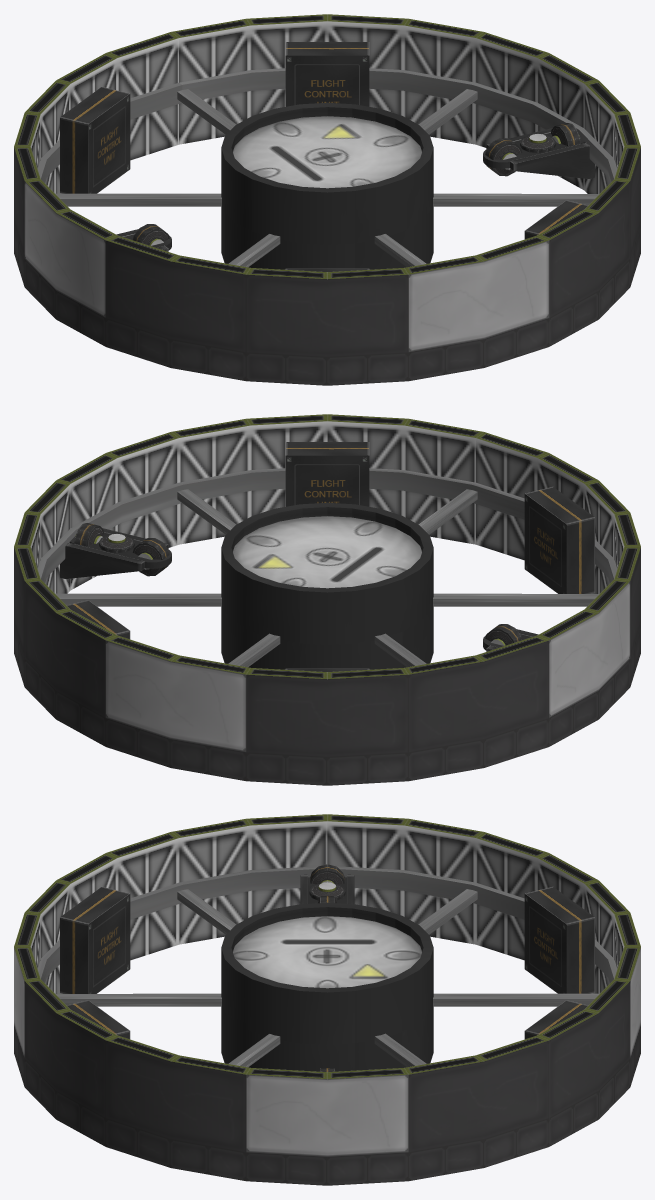
The model's file is TitanInstrumentUnit.FBX.
3 renders of one model, top to bottom at view 1: azimuth 30°, elevation 25°; view 2: azimuth 150°, elevation 25°; view 3: azimuth 270°, elevation 25°, orthographic.
Visible parts, largest first — view 1: MainBody, Cylinder047, Tube003, AvionicsBox003, Cylinder048, AvionicsBox001, Box109, GyroBrace004, Box108, Box110, AvionicsBox005, Gyro005 (+4 smaller); view 2: MainBody, Cylinder047, Tube003, AvionicsBox007, Cylinder048, AvionicsBox005, Box110, GyroBrace003, Box108, Box109, AvionicsBox001, Gyro005 (+4 smaller); view 3: MainBody, Cylinder047, Tube003, AvionicsBox003, AvionicsBox007, Cylinder048, Box108, Box110, Box109, AvionicsBox001, AvionicsBox005, Gyro001.
Part boxes in pixels (x1,y1,x2,y2): MainBody: (14,14,640,385); Cylinder047: (221,102,433,244); Tube003: (37,68,617,182); AvionicsBox003: (60,87,130,193); Cylinder048: (221,203,433,269); AvionicsBox001: (285,42,369,106); Box109: (55,193,598,206); GyroBrace004: (510,142,594,178); Box108: (177,89,426,267); Box110: (228,89,477,267); AvionicsBox005: (524,200,587,239); Gyro005: (485,138,522,176); MainBody: (14,414,640,785); Cylinder047: (221,502,433,644); Tube003: (37,468,617,582); AvionicsBox007: (524,487,594,593); Cylinder048: (221,603,433,669); AvionicsBox005: (285,442,369,506); Box110: (55,593,598,606); GyroBrace003: (60,542,144,578); Box108: (228,489,477,667); Box109: (177,489,426,667); AvionicsBox001: (67,600,130,639); Gyro005: (132,538,169,576); MainBody: (14,814,640,1185); Cylinder047: (221,902,433,1044); Tube003: (37,866,617,982); AvionicsBox003: (524,887,594,993); AvionicsBox007: (60,887,130,993); Cylinder048: (221,1003,433,1071); Box108: (56,993,599,1006); Box110: (177,889,426,1067); Box109: (228,889,477,1067); AvionicsBox001: (524,1000,587,1039); AvionicsBox005: (67,1000,130,1039); Gyro001: (310,864,344,884).
Size of what is drawn, in the model's own units: 1.87 by 0.3517 by 1.87.
